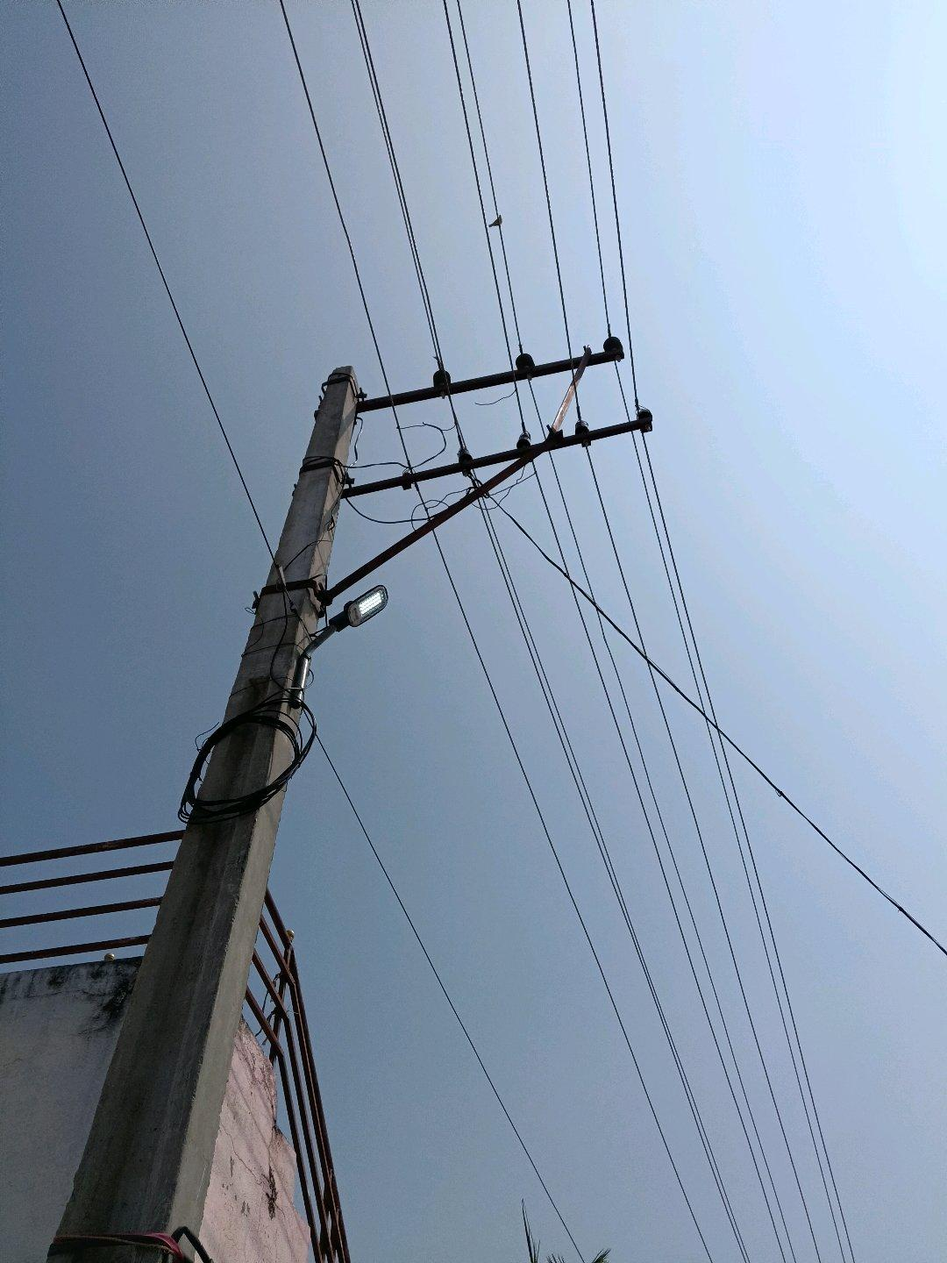{"0" "insulator", "1" "pole", "2" "crossarm", "3" "conductor", "4" "street_: (49, 341, 651, 1262), (356, 603, 361, 610), (171, 1253, 173, 1255)
